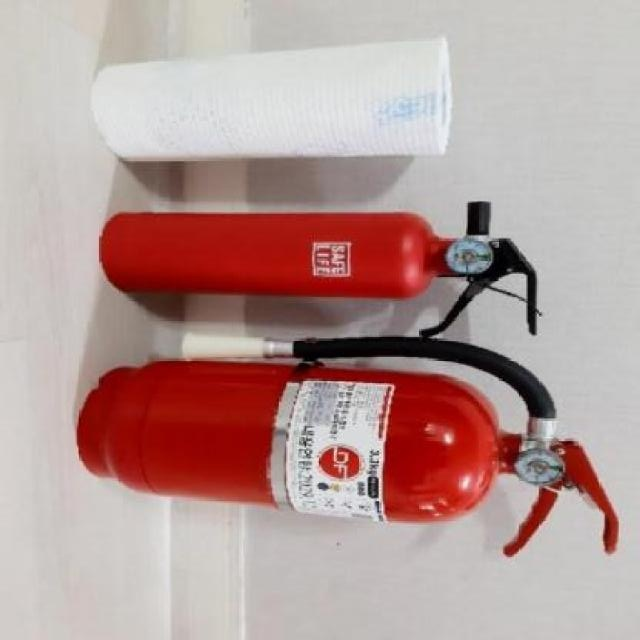fire extinguisher: (76, 333, 621, 559), (100, 200, 537, 338)
